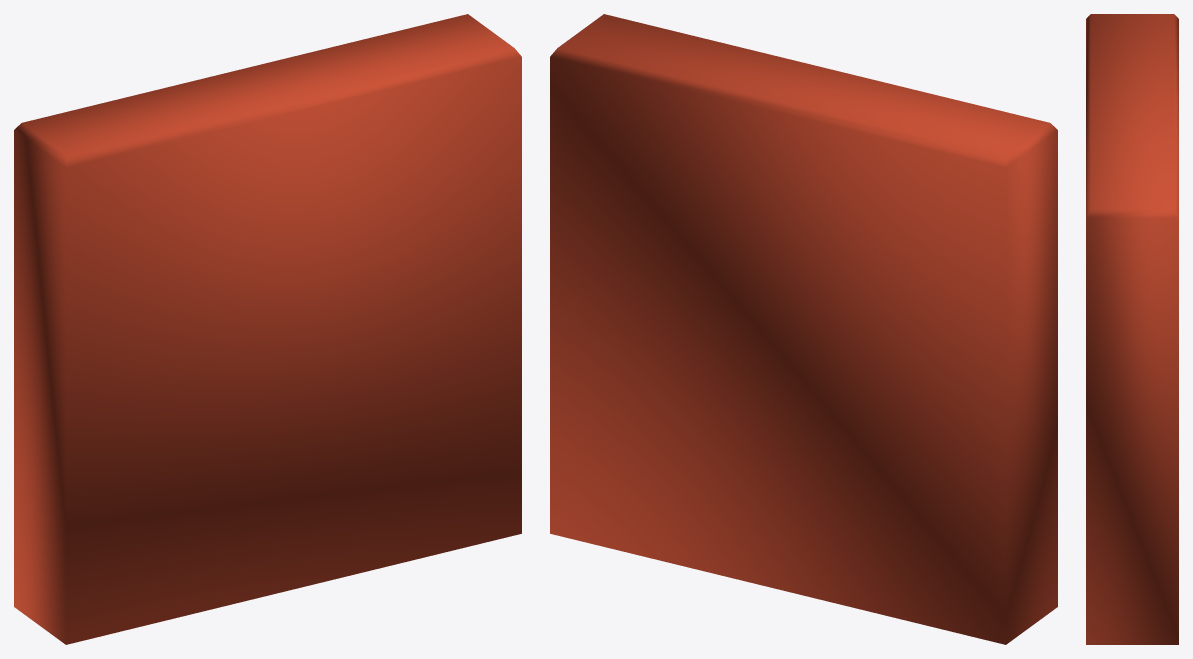
Rendered from wall.fbx.
The picture shows the model from 3 angles, left to right: view 1: azimuth 30°, elevation 25°; view 2: azimuth 150°, elevation 25°; view 3: azimuth 270°, elevation 25°; orthographic projection. The views are drawn at different scales.
Visible parts, largest first — view 1: Куб; view 2: Куб; view 3: Куб.
Boxes of the visible parts, bbox=[...] form: Куб: bbox=[14, 14, 521, 644]; Куб: bbox=[550, 14, 1057, 644]; Куб: bbox=[1086, 14, 1178, 644].
Size of the model in its own units: 200 by 203 by 39.46.
